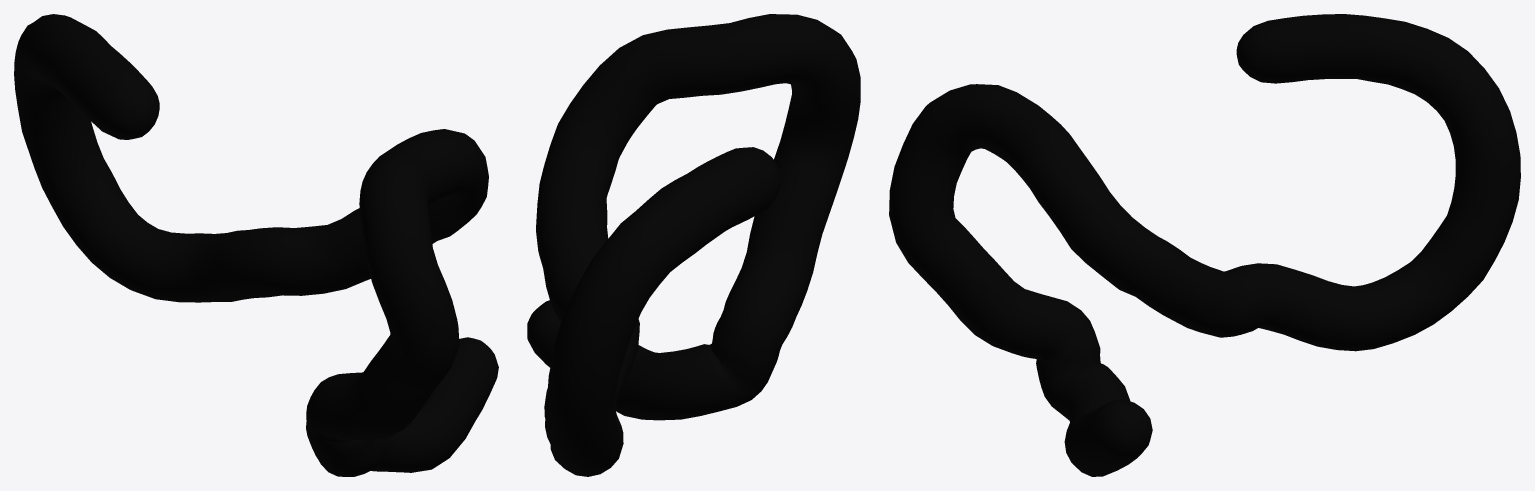
File: BLOB_02.glb
3 views of the same model, side by side, from view 1: azimuth 30°, elevation 25°; view 2: azimuth 150°, elevation 25°; view 3: azimuth 270°, elevation 25° (orthographic). The views are drawn at different scales.
Visible parts, largest first — view 1: BLOB 1; view 2: BLOB 1; view 3: BLOB 1.
Part boxes in pixels (left/top/right/bottom): BLOB 1: left=14, top=14, right=498, bottom=476; BLOB 1: left=527, top=14, right=860, bottom=476; BLOB 1: left=889, top=14, right=1520, bottom=476.
Bounding box in the file's own units: 4.54 × 5.17 × 8.16.
1 material, 1 textured.
